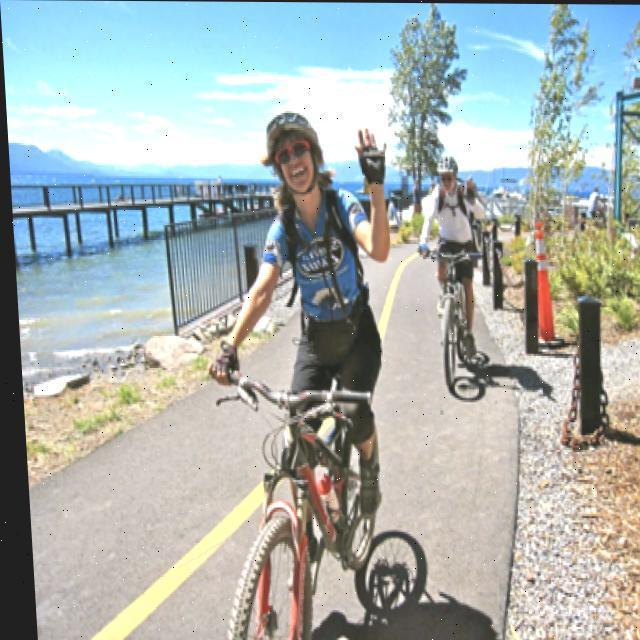Helmet: (259, 98, 325, 208), (429, 146, 464, 194)
